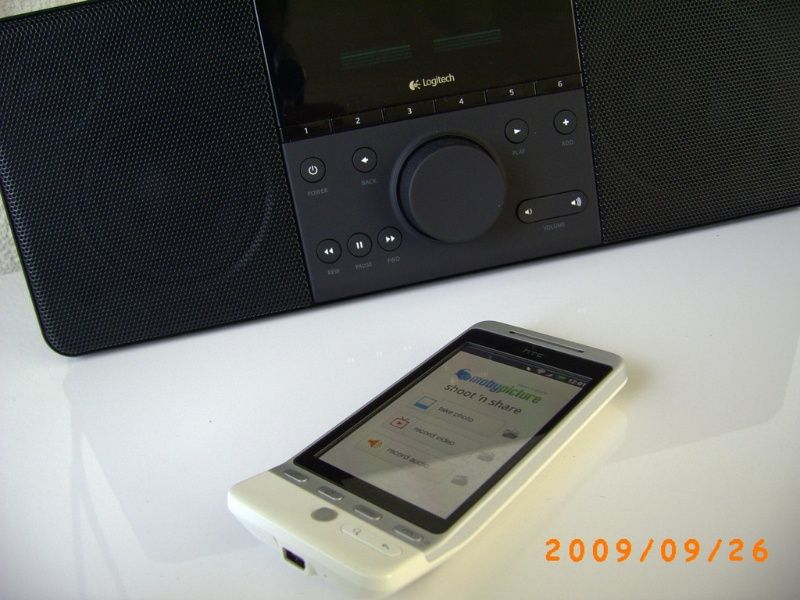cellphone: (241, 323, 628, 580)
